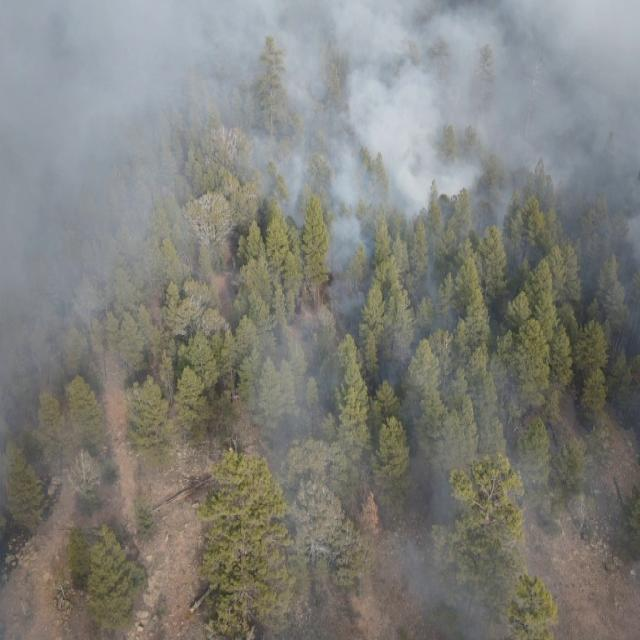fire: (624, 362, 640, 388)
smoke: (0, 0, 640, 200), (201, 200, 640, 458), (265, 457, 640, 640), (0, 366, 134, 640), (0, 200, 204, 365)
